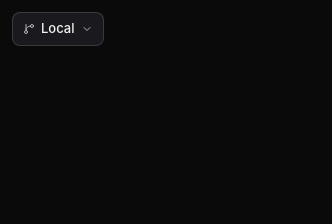
WorkLocation › lets a new thread choose a worktree and its base
Later steps or results of the test are not shown.
Click the button with aria-label "Where this thread works" at (58, 29), box [12,12,104,46]
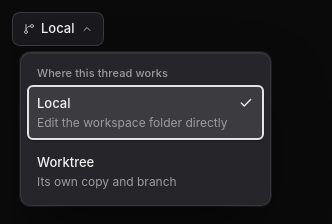
Now the text "Its own copy and branch" is shown, box [37,174,177,189]
